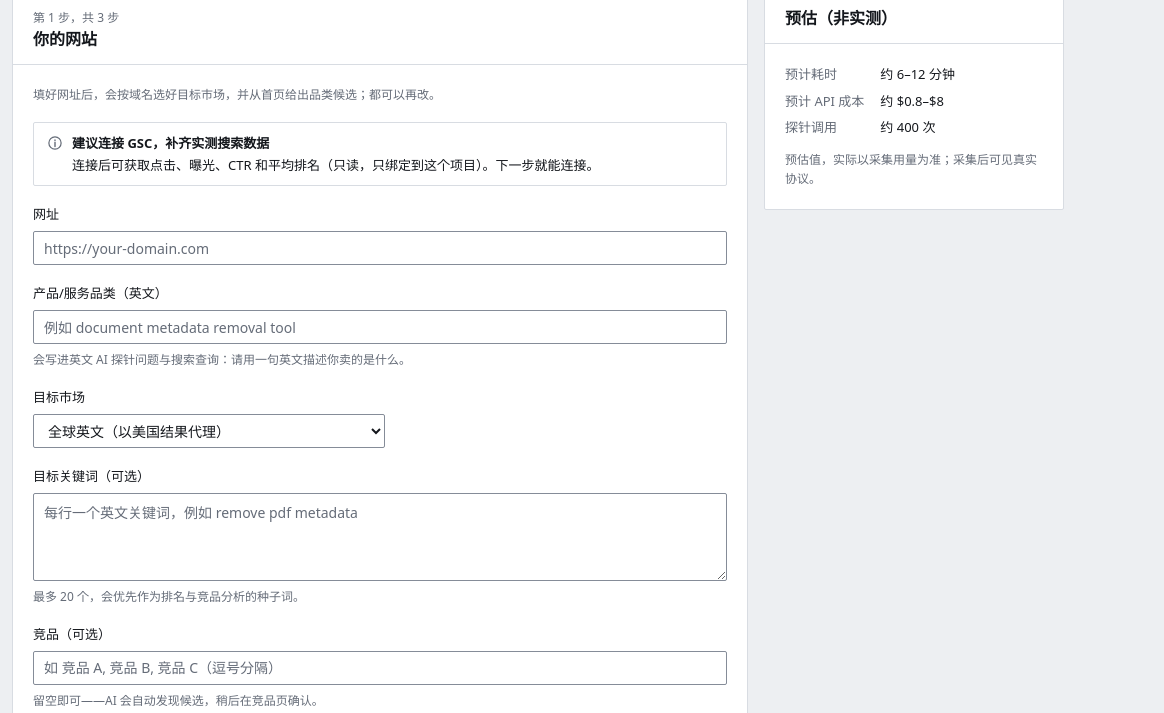
NewAnalysisForm 第 2 步引擎多选预填（savedEngines 回填，spec §2.4） › 换到下一步后，焦点落在新步骤的标题上
The image size is (1164, 713).
Type "https://example.com" into the field labelled "网址" at (380, 248), box [33, 231, 727, 265]
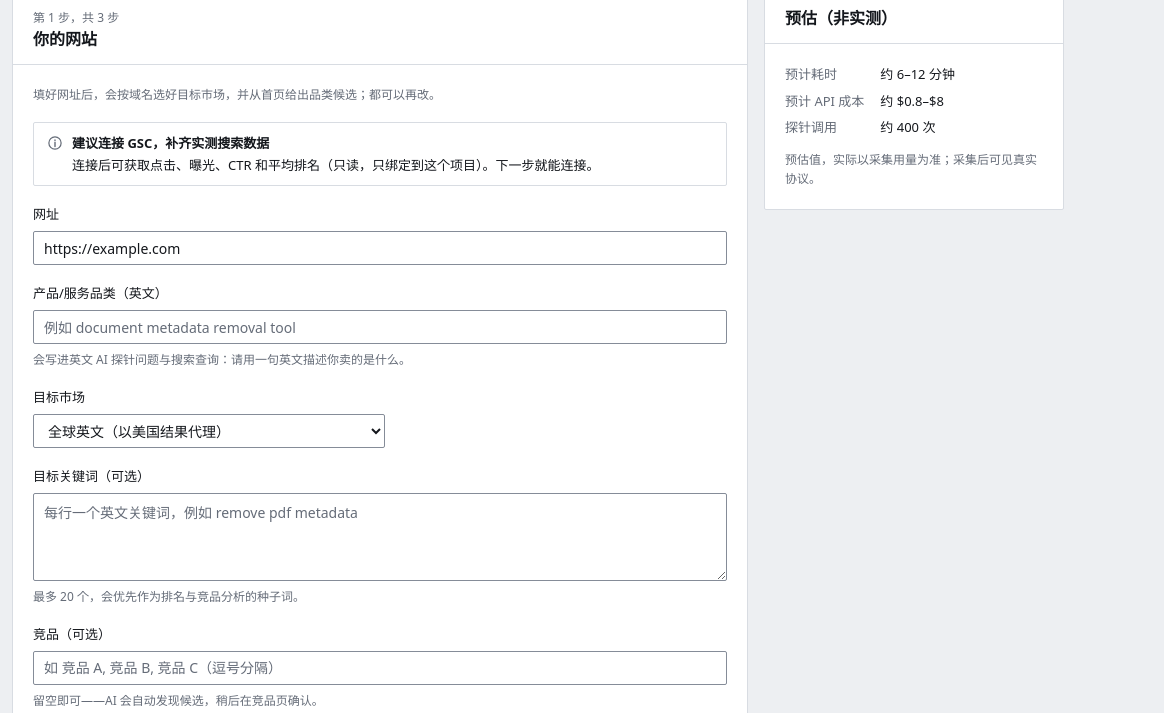
Type "saas tool" into the field labelled "产品/服务品类（英文）" at (380, 327), box [33, 310, 727, 344]
(page scrolled)
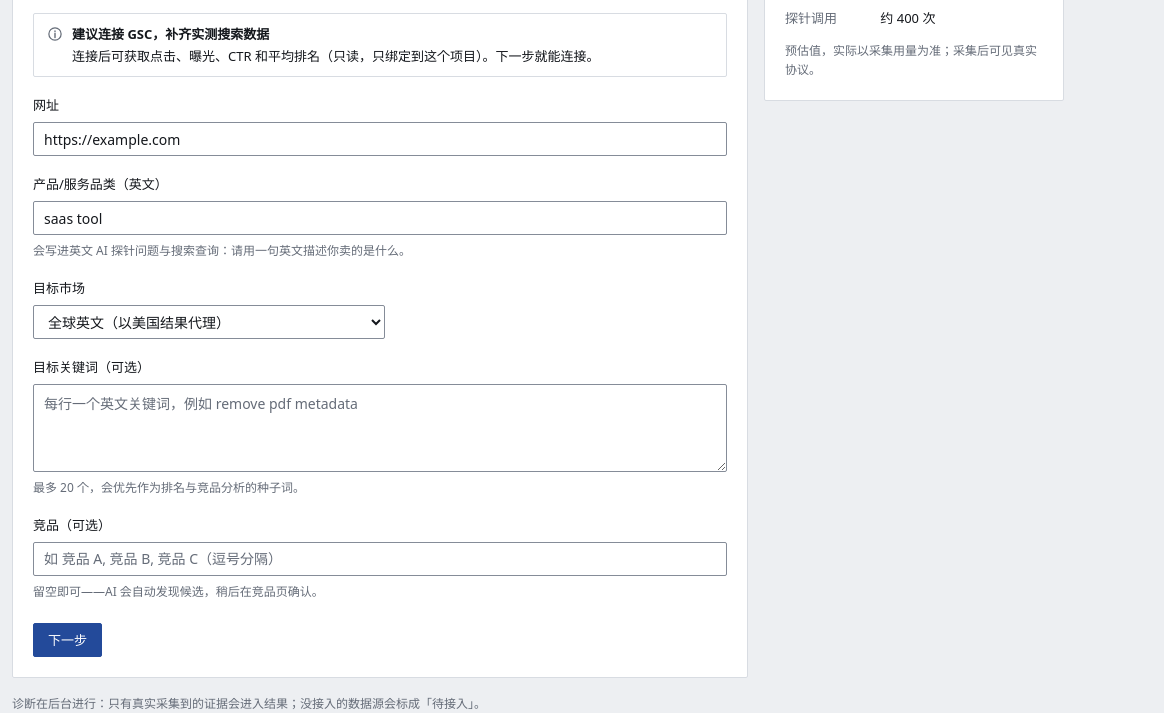
Click the button "下一步" at (68, 640), box [33, 623, 102, 657]
(page scrolled)
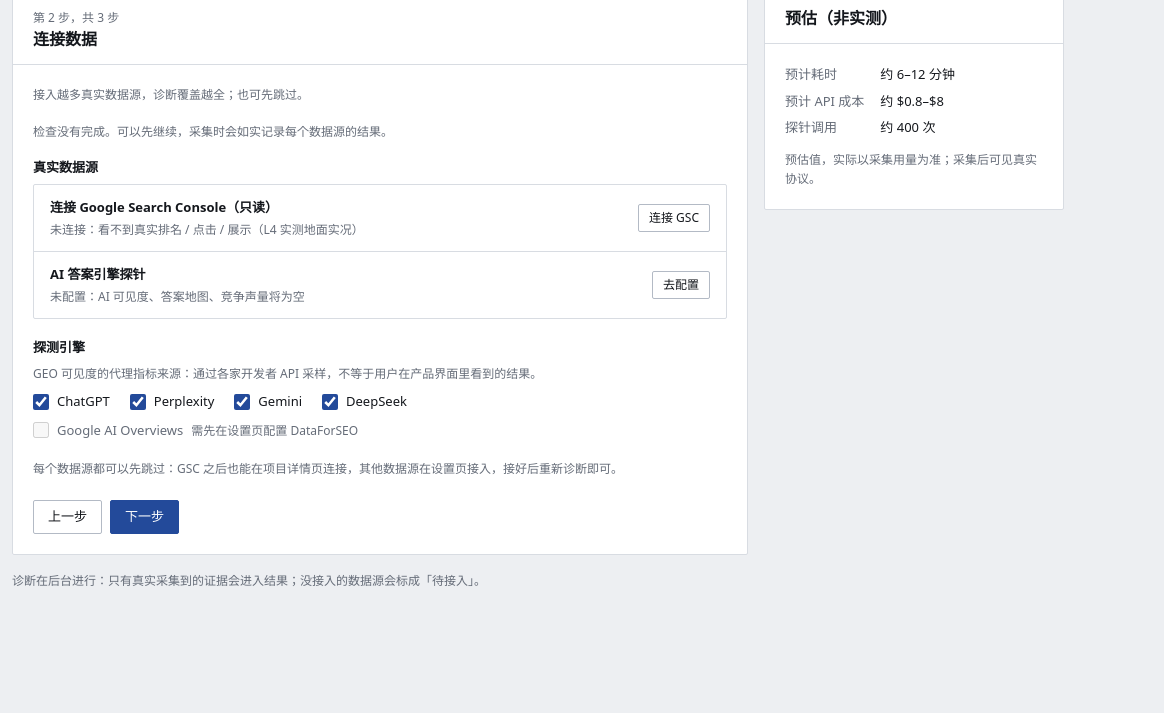
expect the heading "连接数据" is shown: met, box [33, 28, 97, 50]
expect the text "第 2 步，共 3 步" is shown: met, box [33, 8, 119, 27]
